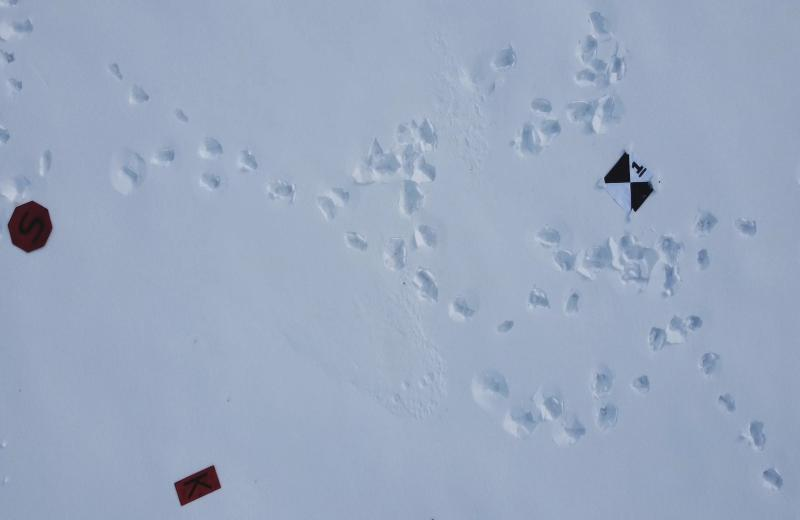Octagon: (6, 199, 55, 254)
Rectangle: (174, 461, 224, 508)
